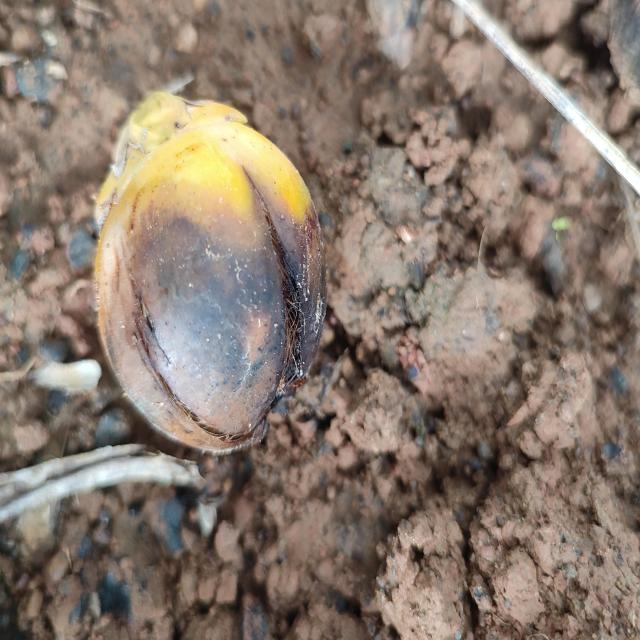damaged: (92, 91, 329, 458)
